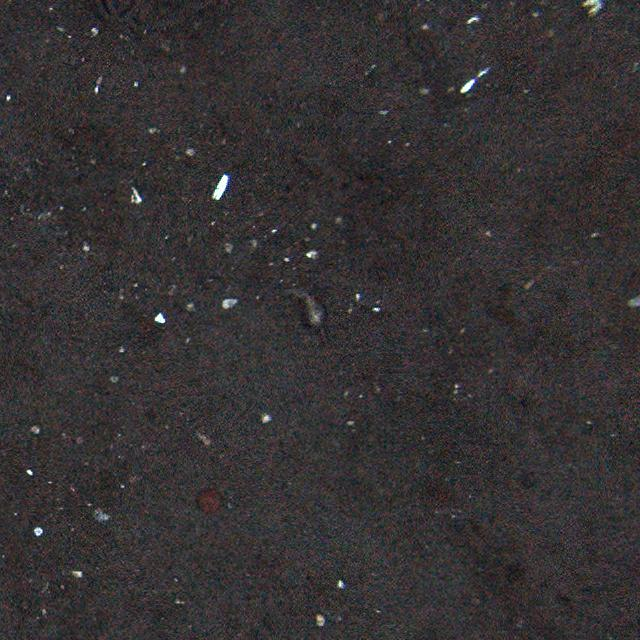whelk: (296, 295, 332, 333)
